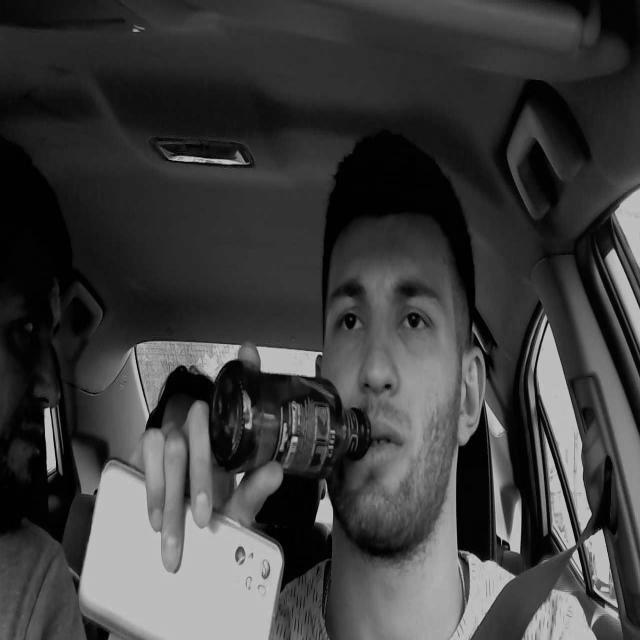Drinking: (206, 361, 371, 479)
Phone: (73, 455, 280, 640)
